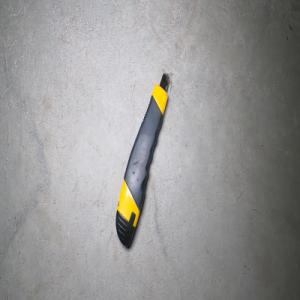Cutter: (114, 72, 171, 247)
